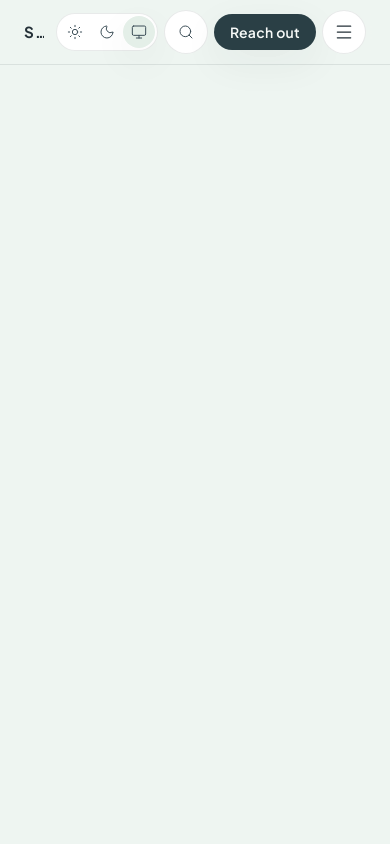
Test: SiteHeader mobile nav › toggles aria-expanded and reveals mobile panel
Click the button named "Open menu": (344, 32) [322,10,366,54]
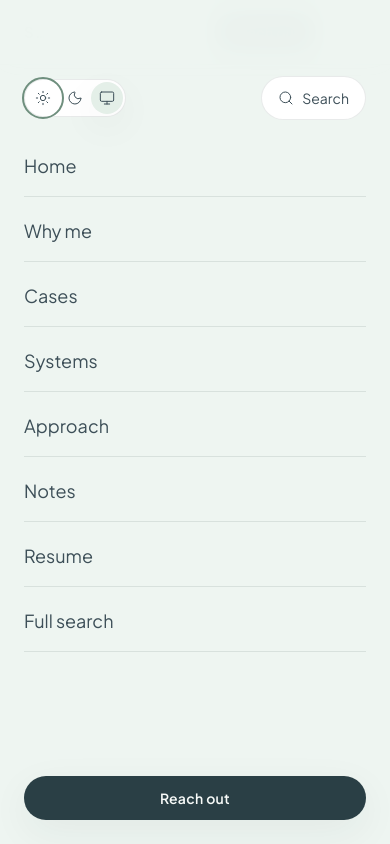
expect the navigation bar named "Mobile" is shown: met
